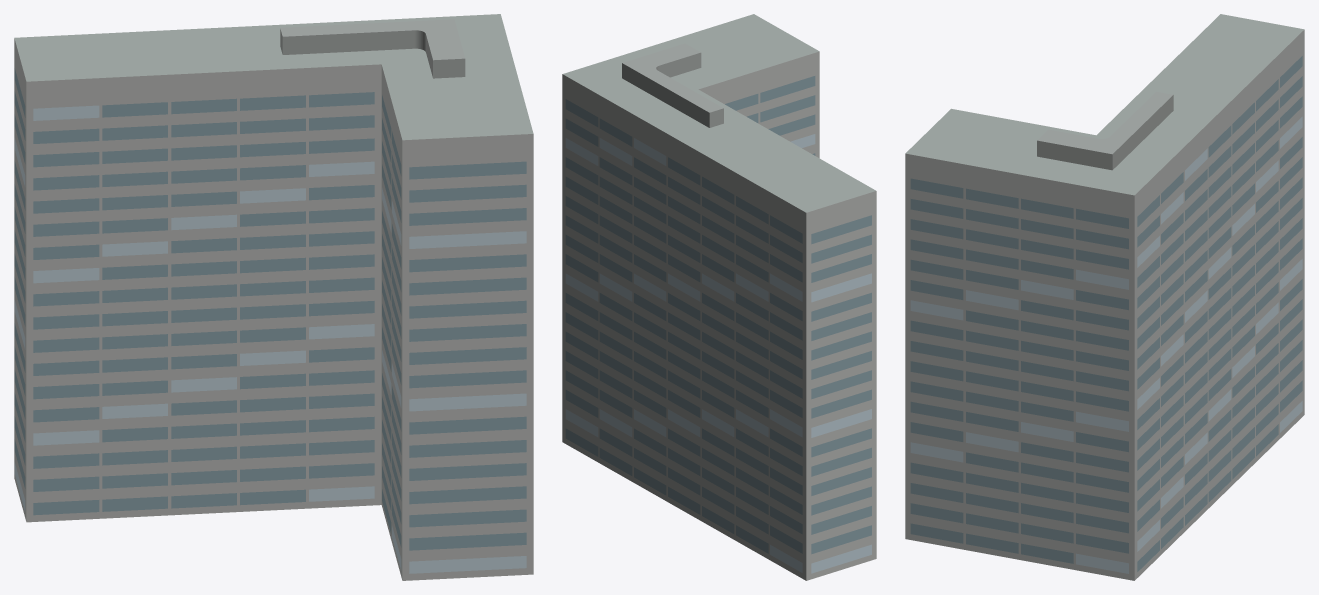
The model's file is apt-a10023734.glb.
3 renders of one model, left to right at view 1: azimuth 30°, elevation 25°; view 2: azimuth 150°, elevation 25°; view 3: azimuth 270°, elevation 25°, orthographic. The views are drawn at different scales.
Visible parts, largest first — view 1: apt-a10023734; view 2: apt-a10023734; view 3: apt-a10023734.
Part boxes in pixels (x1,y1,x2,y2): apt-a10023734: (14,14,533,580); apt-a10023734: (562,14,876,580); apt-a10023734: (905,14,1304,580).
Size of the model in its own units: 58.15 by 60 by 54.08.
